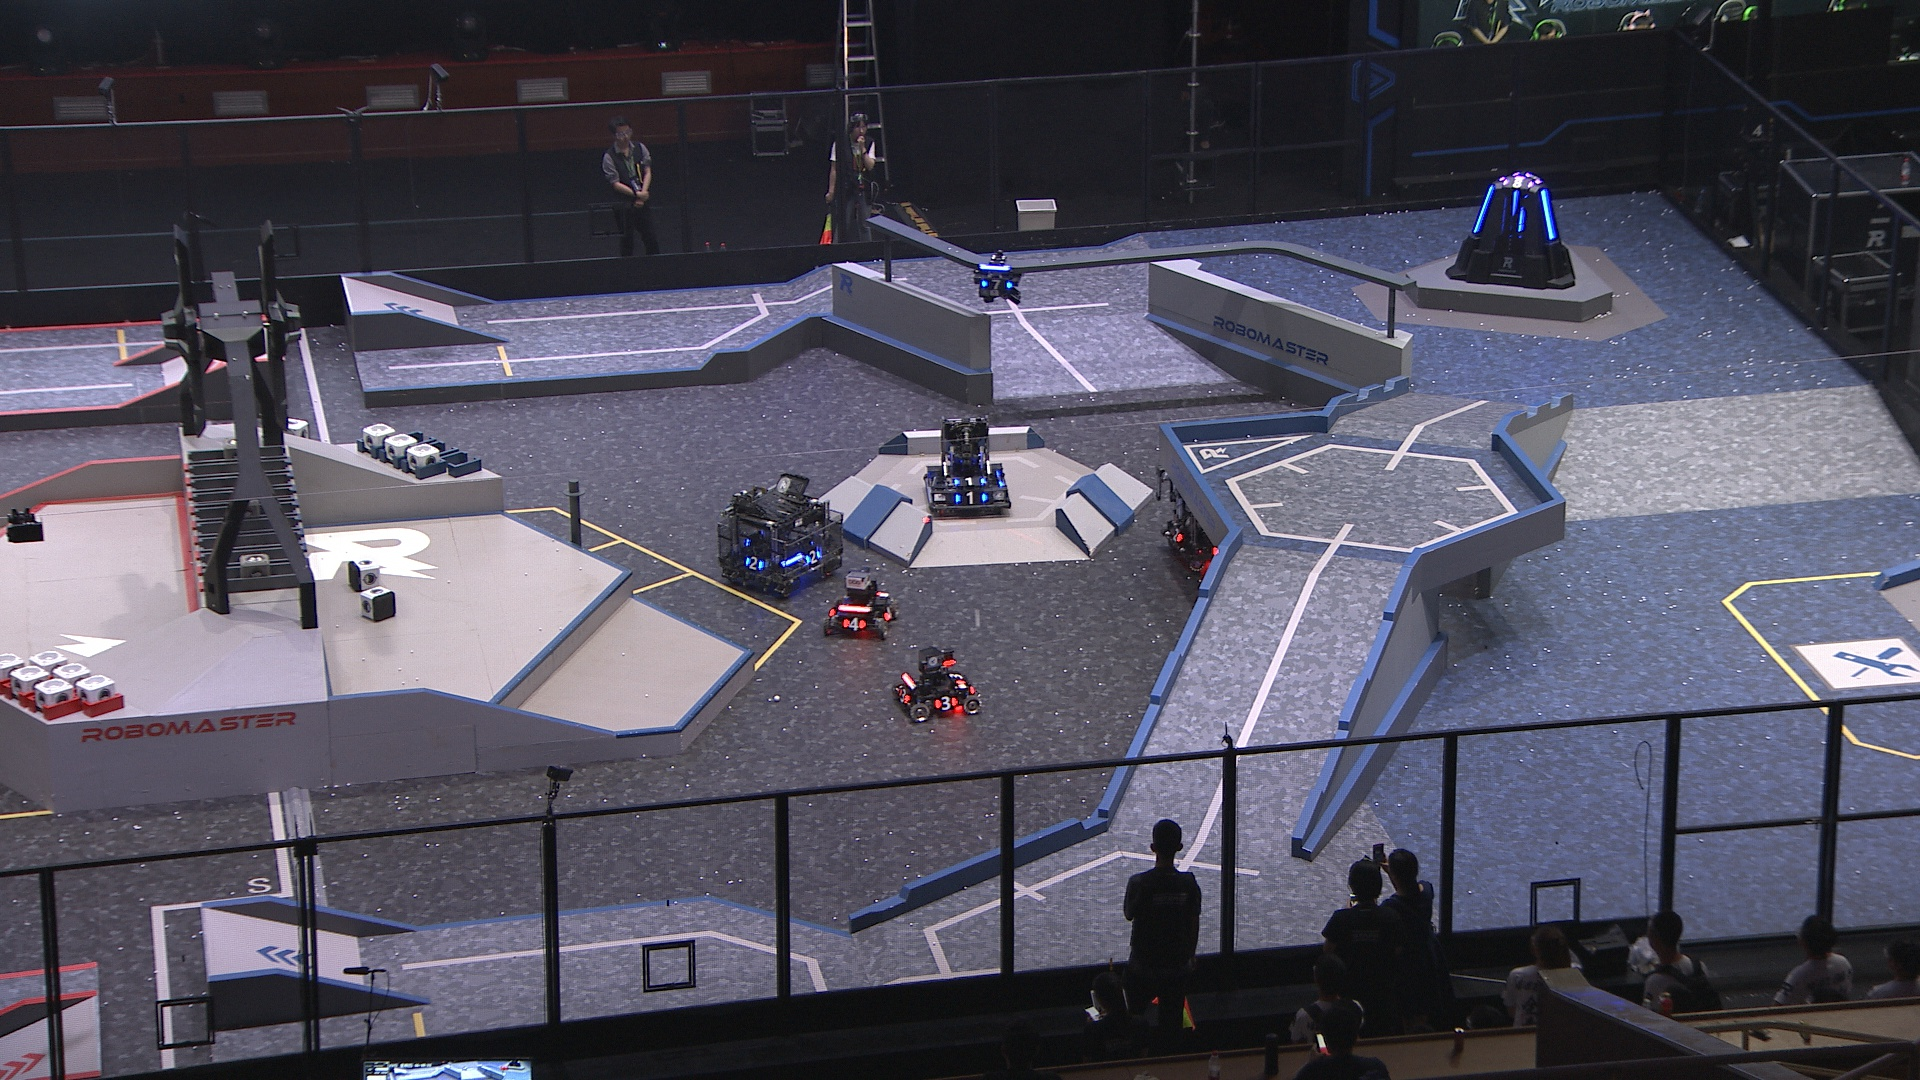armor: (1468, 183, 1493, 233), (1538, 189, 1556, 239), (953, 491, 988, 508), (744, 553, 767, 574), (978, 278, 1015, 291), (841, 617, 870, 633), (931, 695, 957, 711), (951, 475, 988, 485), (800, 550, 825, 564), (894, 688, 913, 705), (1516, 206, 1527, 233), (1171, 527, 1185, 545), (949, 671, 968, 684), (927, 475, 940, 491), (884, 607, 893, 622)
base: (1441, 166, 1575, 290)
car: (716, 473, 849, 603), (1153, 456, 1273, 571), (920, 417, 1015, 520), (887, 646, 986, 725), (825, 567, 902, 642)
ignore: (1501, 174, 1534, 190)
watcher: (972, 248, 1026, 305)
